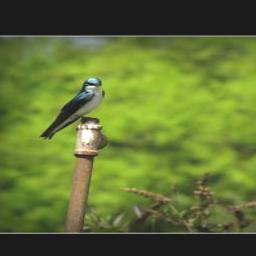Swallow: (37, 76, 105, 141)
